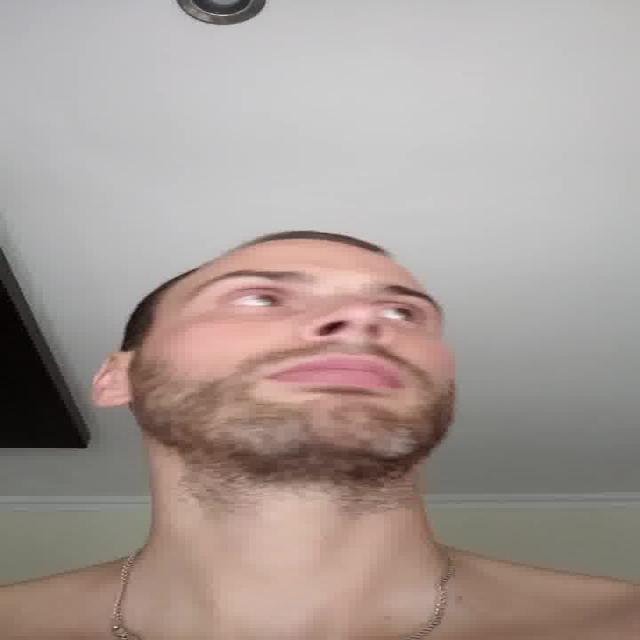earlobe: (91, 391, 136, 410)
eye: (227, 290, 294, 310), (377, 301, 430, 325)
nose: (304, 327, 388, 361)
wholeear: (90, 350, 134, 411)
